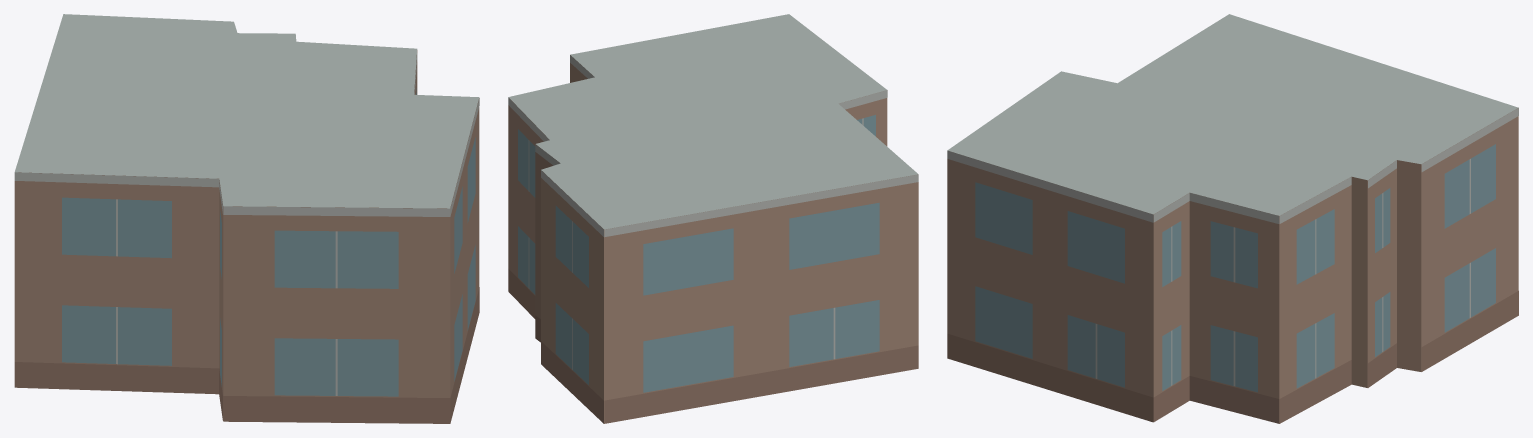
File: survey-upis-32646640.glb
3 renders of one model, left to right at view 1: azimuth 30°, elevation 25°; view 2: azimuth 150°, elevation 25°; view 3: azimuth 270°, elevation 25°, orthographic. The views are drawn at different scales.
Parts seen in each view (by area): view 1: survey-upis-32646640.tmp; view 2: survey-upis-32646640.tmp; view 3: survey-upis-32646640.tmp.
Boxes of the visible parts, x1,y1,x2,y2 form: survey-upis-32646640.tmp: (14, 14, 479, 423); survey-upis-32646640.tmp: (508, 14, 918, 423); survey-upis-32646640.tmp: (947, 14, 1518, 423).
Size of the model in its own units: 12.71 by 6.1 by 15.2.
